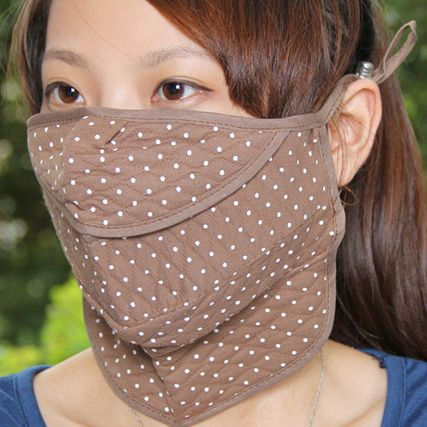face_mask: (31, 1, 275, 316)
